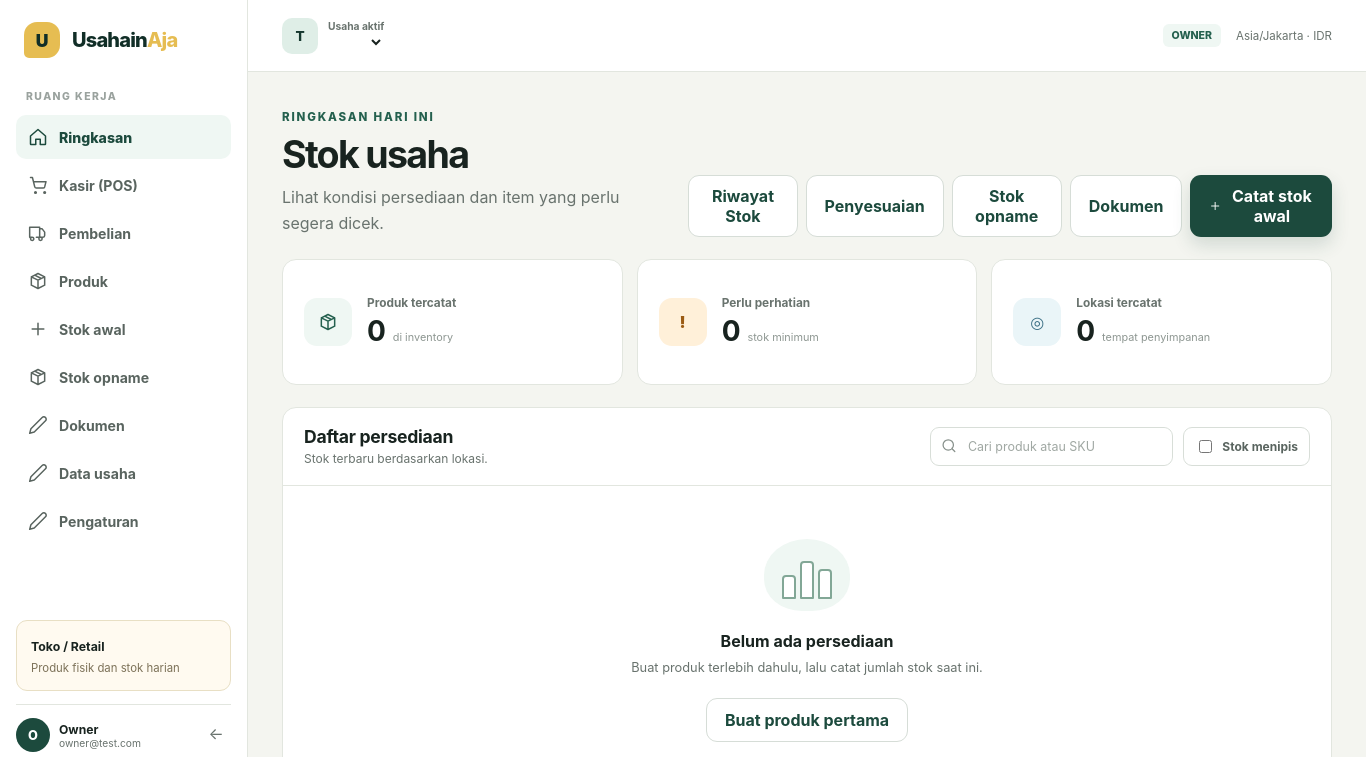
Workspace halaman dokumen › hanya menampilkan satu dokumen ketika struk dibuka, bukan hub beserta daftar pembelian
# Tombol "Dokumen" juga ada di dashboard, jadi ambil yang di navigasi.
Click the button "Dokumen" below "RUANG KERJA": {"x": 124, "y": 425} [16, 403, 231, 447]
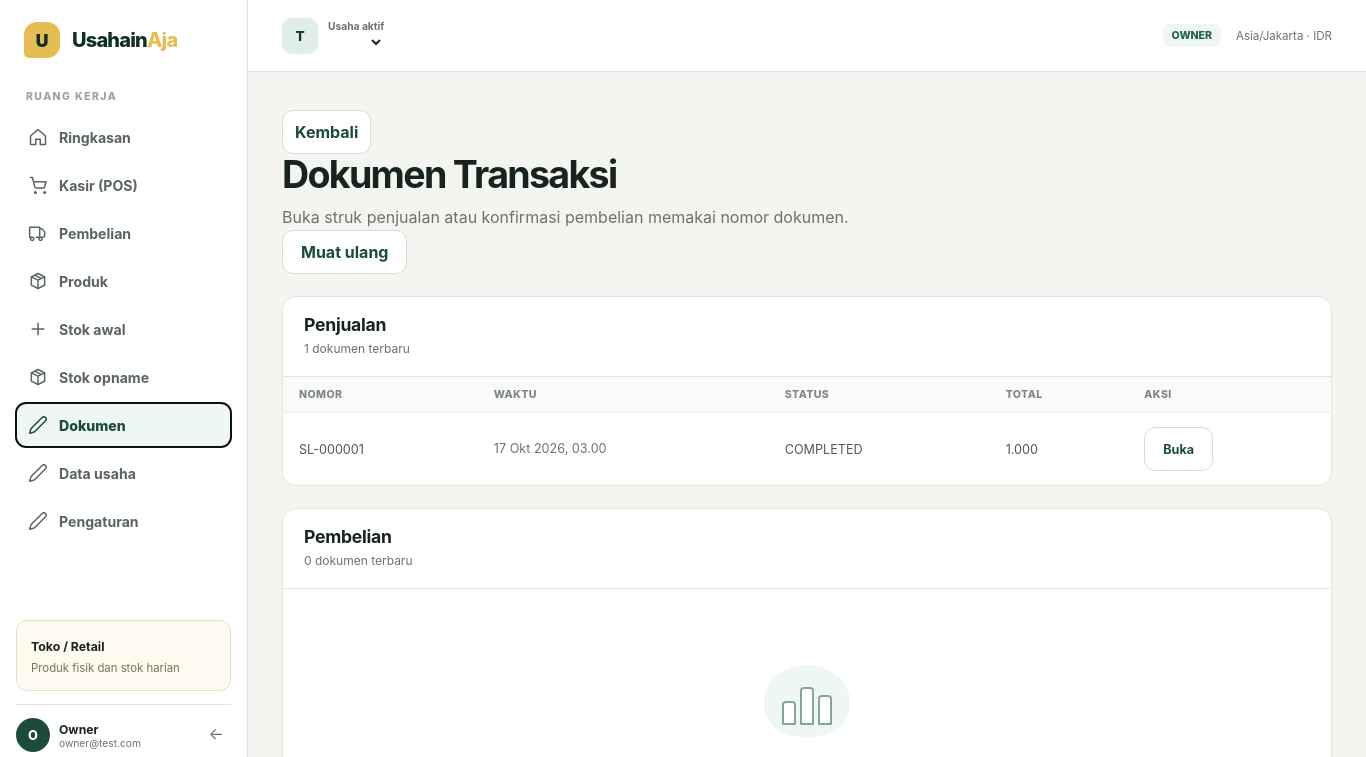
Now the heading "Dokumen Transaksi" is shown, box [282, 152, 616, 197]
Now the heading "Penjualan" is shown, box [304, 314, 386, 336]
Now the heading "Pembelian" is shown, box [304, 526, 392, 547]
Click the button "Buka": {"x": 1179, "y": 449} [1144, 427, 1213, 471]
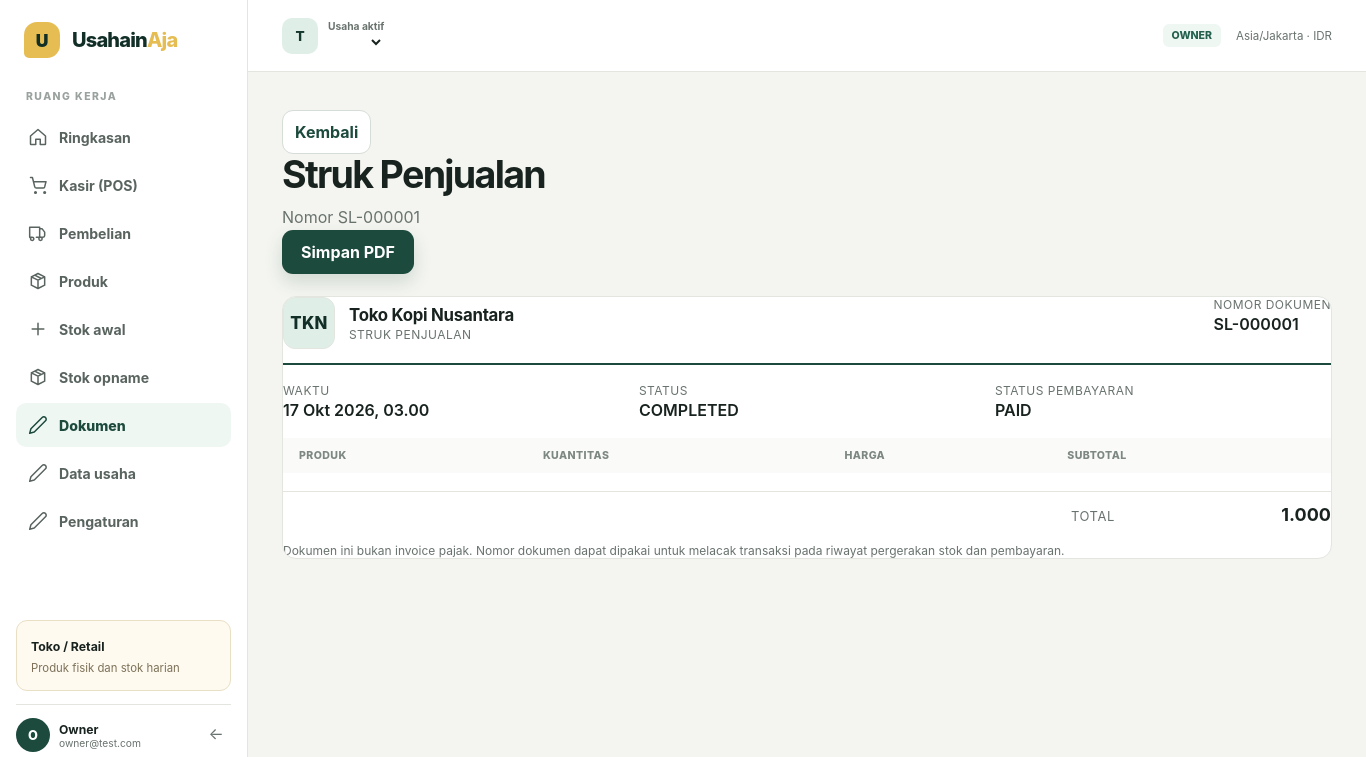
Now the text "Nomor SL-000001" is shown, box [282, 207, 420, 227]
Now the heading "Dokumen Transaksi" is gone
Now the heading "Toko Kopi Nusantara" is shown, box [349, 305, 514, 325]
